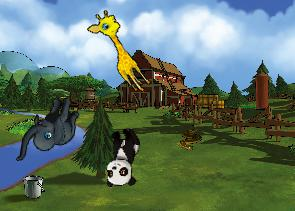elephant: (15, 91, 81, 168)
giraffe: (83, 6, 161, 96)
panda: (104, 126, 140, 188)
